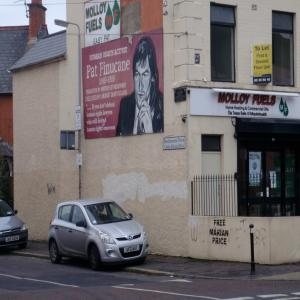Vehicle-registration-plate: (125, 246, 141, 254), (7, 236, 20, 243)
